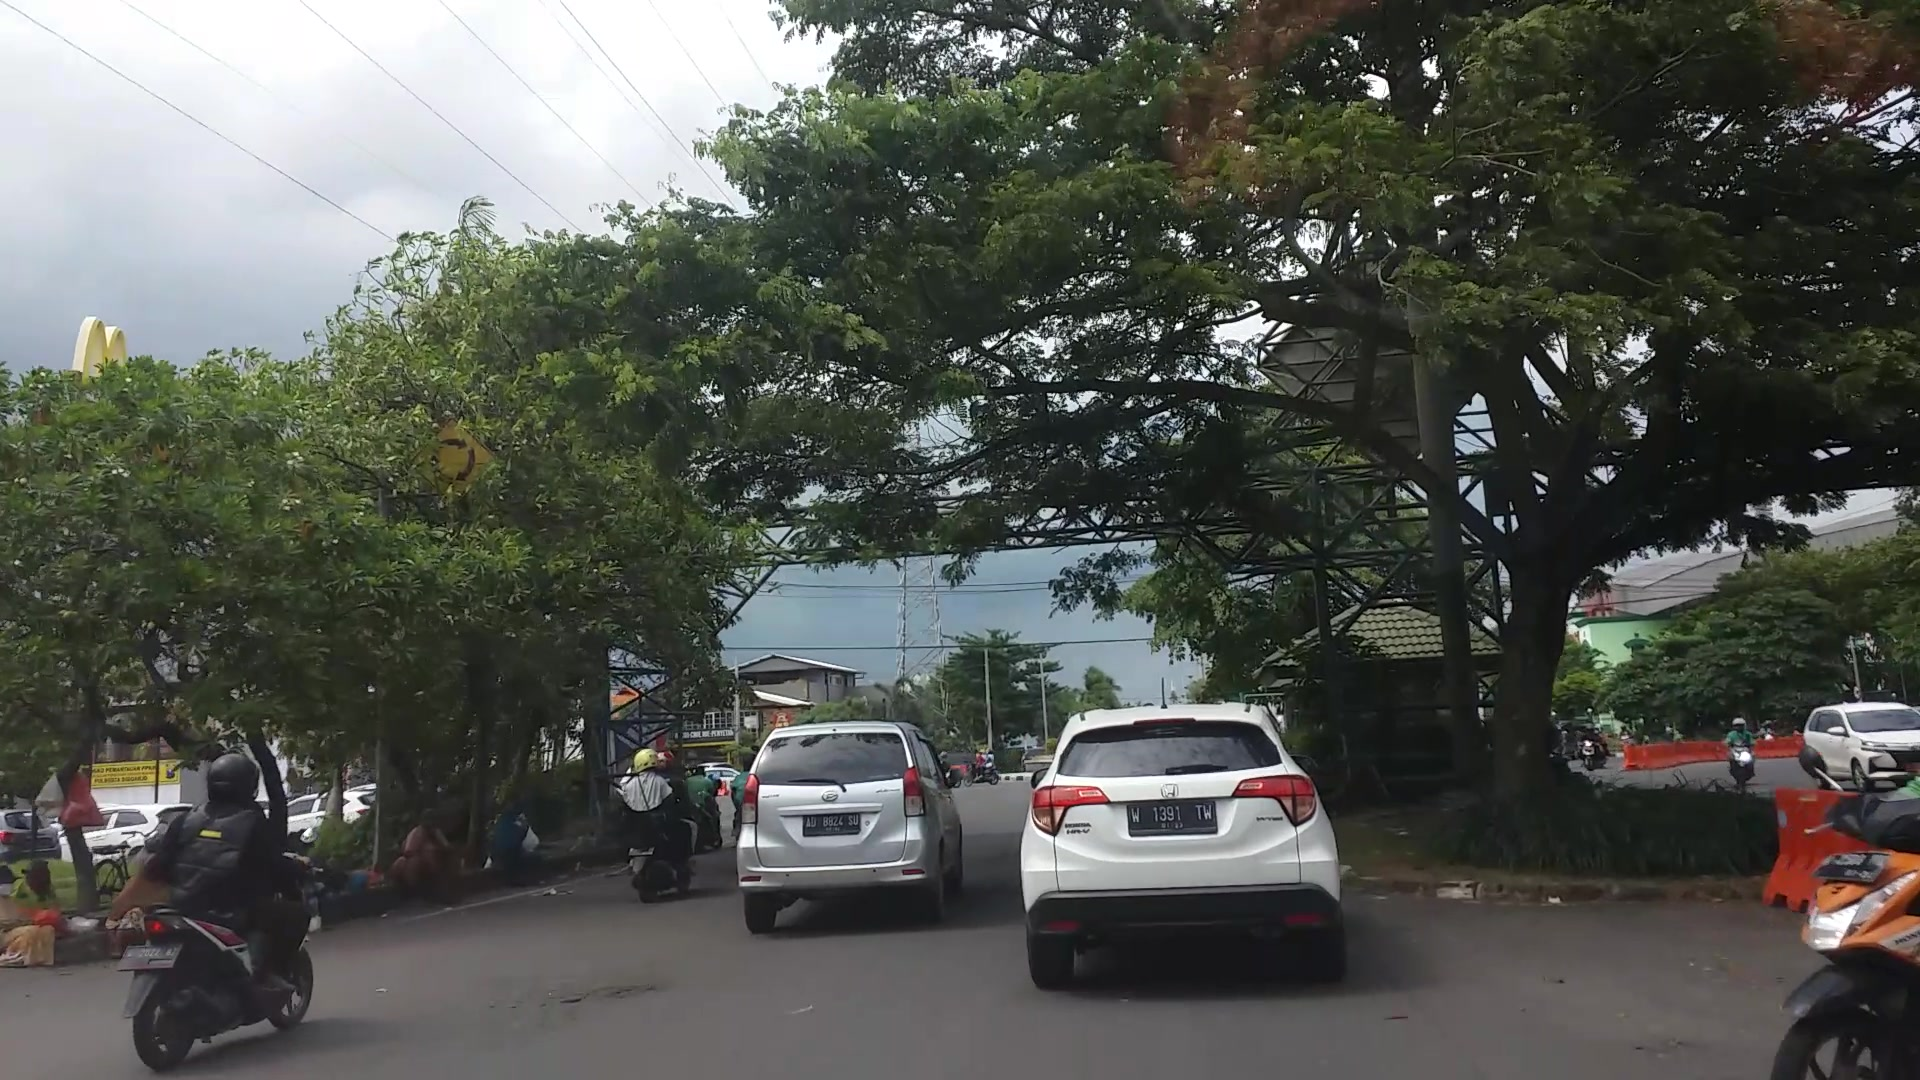plate_positive: (1126, 800, 1217, 833), (802, 812, 861, 836)
